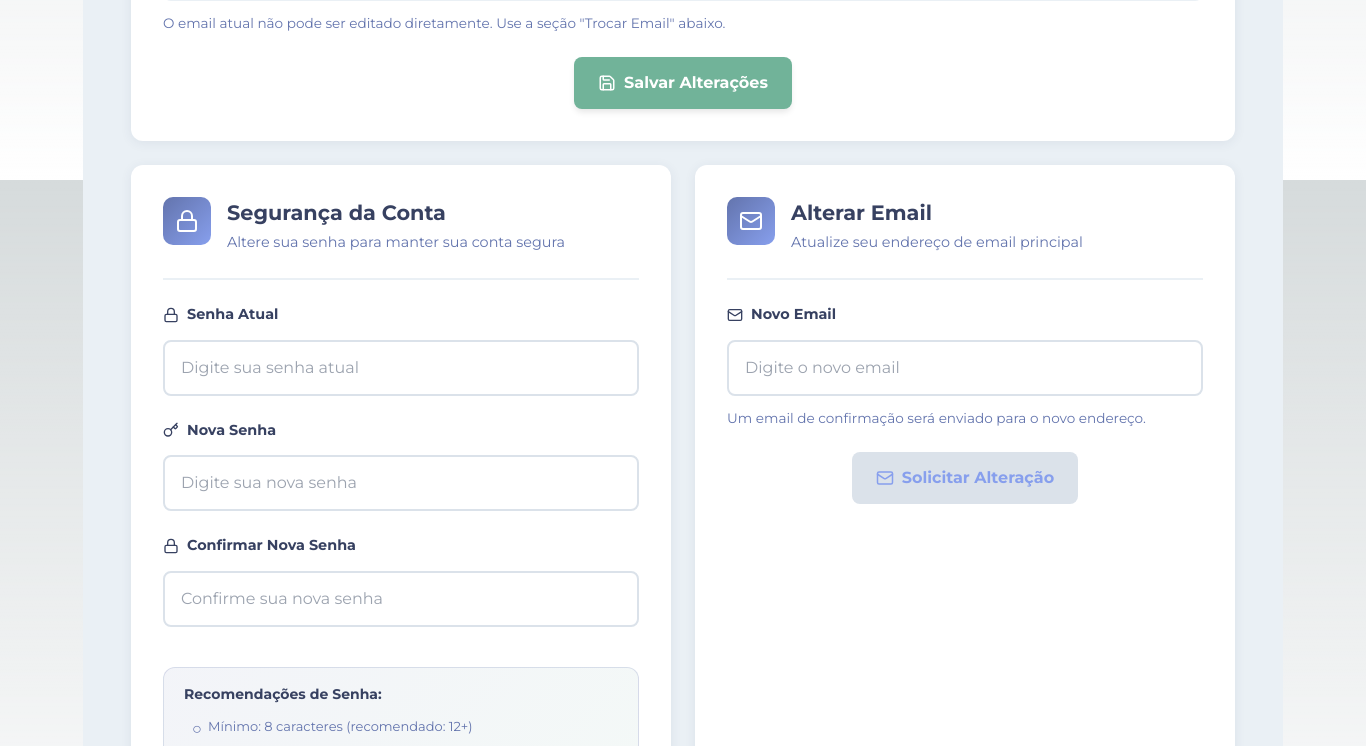
Test: UserEdit › deve habilitar botão de troca de email quando novo email é válido
The width and height of the screenshot is (1366, 746).
(page scrolled)
Type "new@example.com" into the field labelled "Novo Email". click: (965, 368)
box: left=727, top=340, right=1203, bottom=396
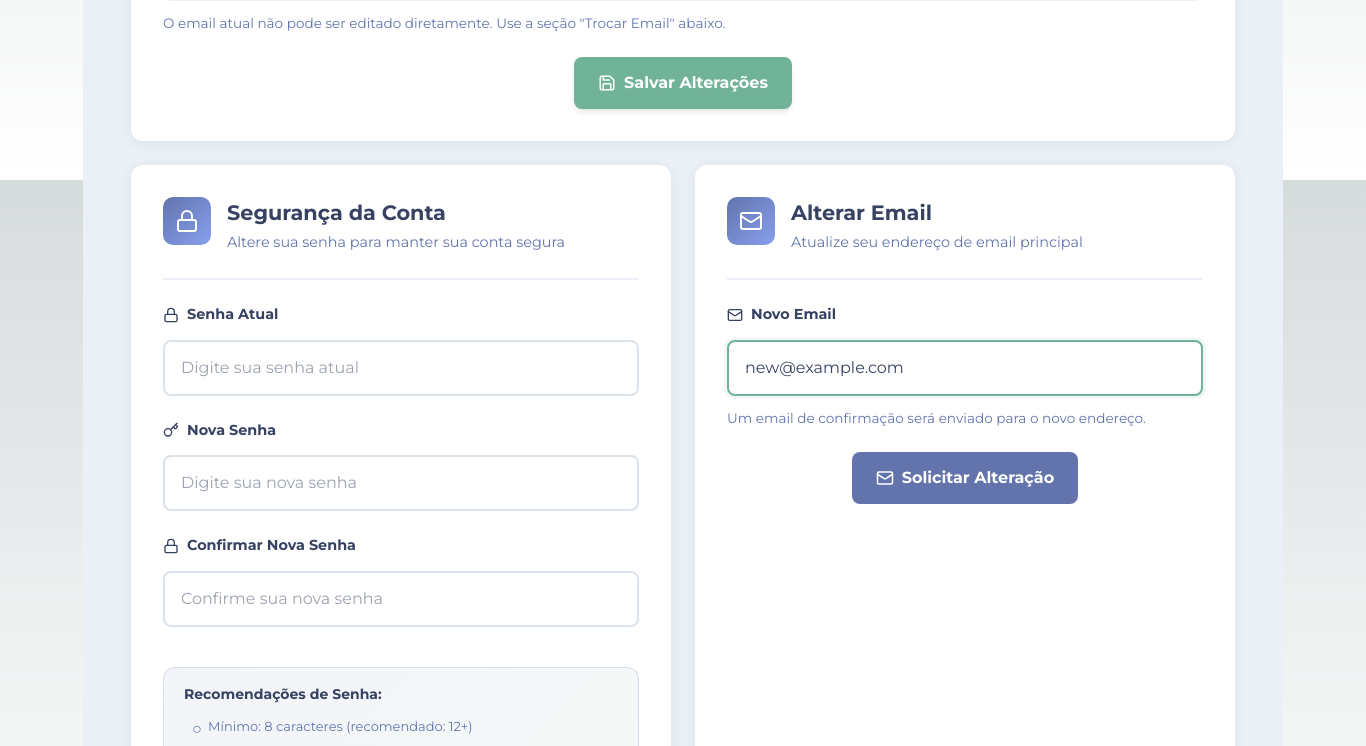
Check: the button "Solicitar Alteração" is enabled, box left=852, top=452, right=1078, bottom=504
